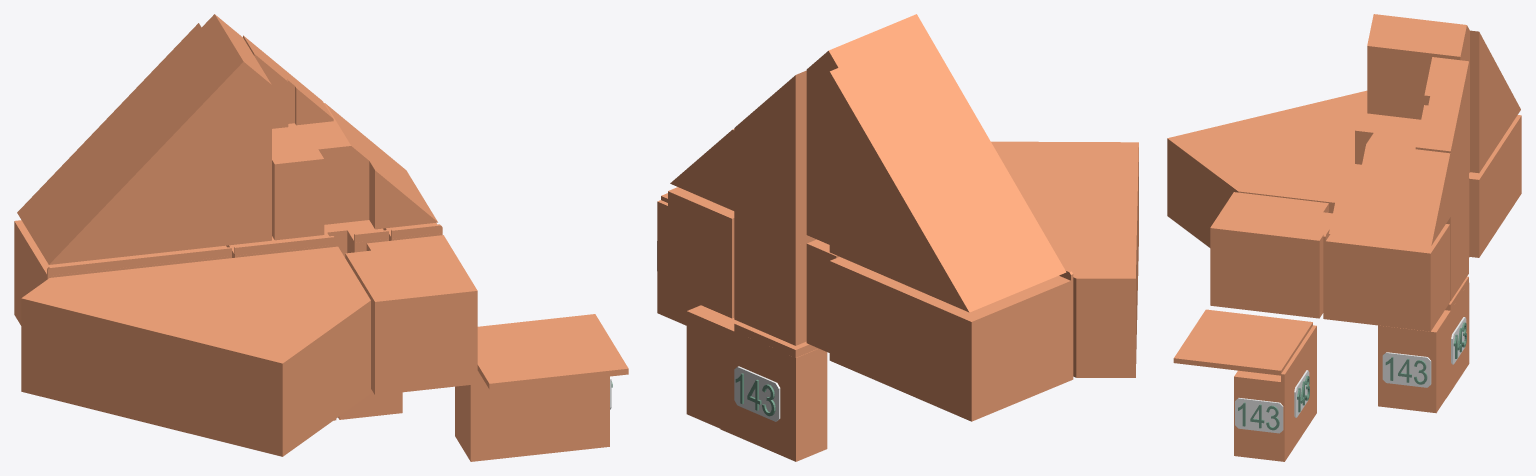
3 views of the same model, side by side, from view 1: azimuth 30°, elevation 25°; view 2: azimuth 150°, elevation 25°; view 3: azimuth 270°, elevation 25° (orthographic). The views are drawn at different scales.
Visible parts, largest first — view 1: g_5, g_2, g_10, g_3, g_1, g_13, g_6, g_4, g_7, g_0, g_9; view 2: g_2, g_6, g_5, g_12, g_4, g_11, g_9, g_0, g_3, g_8, g_1, g_17; view 3: g_5, g_10, g_3, g_2, g_9, g_13, g_1, g_4, g_6, g_0, g_12, g_11 (+2 smaller).
Boxes of the visible parts, box(x1,y1,x2,y2) form: g_5: box(21, 246, 370, 456); g_2: box(17, 14, 271, 264); g_10: box(345, 235, 477, 395); g_3: box(272, 103, 437, 240); g_1: box(455, 371, 609, 461); g_13: box(477, 314, 628, 389); g_6: box(14, 220, 231, 325); g_4: box(243, 35, 333, 128); g_7: box(226, 220, 388, 257); g_0: box(338, 389, 402, 419); g_9: box(383, 223, 442, 240); g_2: box(806, 14, 1066, 312); g_6: box(829, 257, 1073, 421); g_5: box(991, 141, 1138, 377); g_12: box(720, 319, 827, 461); g_4: box(734, 70, 806, 238); g_11: box(734, 212, 816, 345); g_9: box(668, 187, 734, 318); g_0: box(686, 305, 734, 428); g_3: box(670, 129, 734, 210); g_8: box(806, 239, 839, 352); g_1: box(657, 200, 700, 325); g_17: box(734, 366, 780, 421); g_5: box(1167, 90, 1367, 247); g_10: box(1210, 192, 1332, 318); g_3: box(1329, 113, 1450, 245); g_2: box(1367, 14, 1520, 173); g_9: box(1323, 223, 1449, 331); g_13: box(1173, 309, 1312, 375); g_1: box(1234, 325, 1316, 461); g_4: box(1415, 57, 1468, 216); g_6: box(1469, 115, 1521, 257); g_0: box(1378, 316, 1446, 413); g_12: box(1441, 276, 1469, 397); g_11: box(1446, 190, 1468, 301).
Size of the model in its own units: 13.82 by 10.1 by 9.92.
